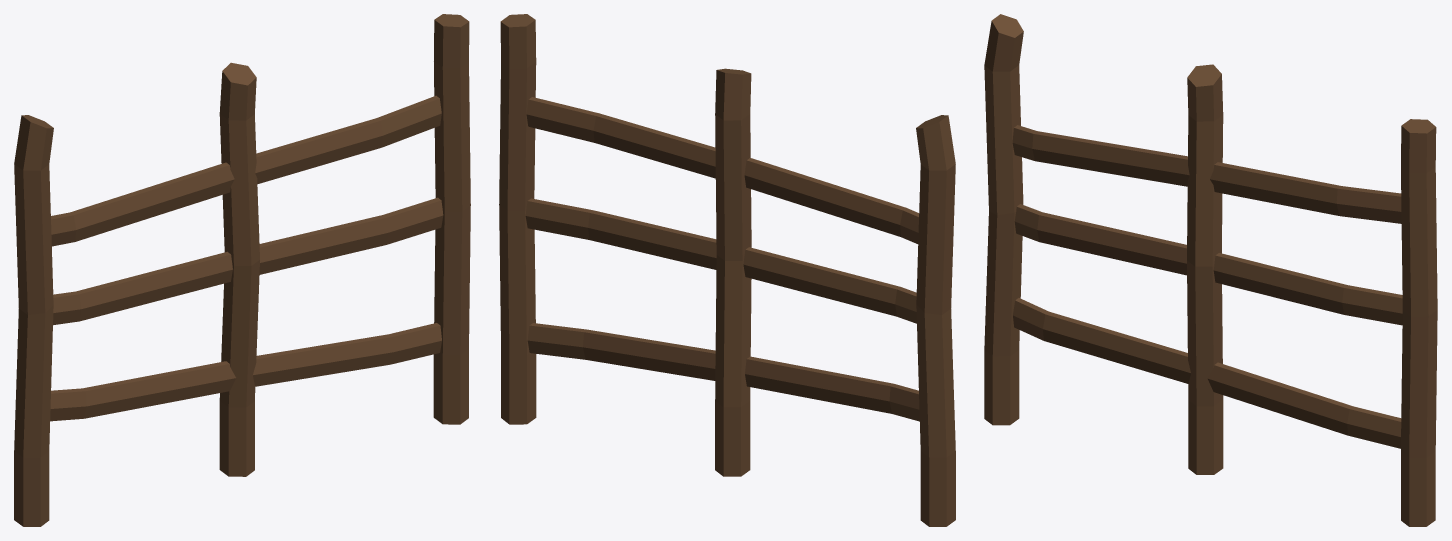
The model's file is fence_1.fbx.
3 views of the same model, side by side, from view 1: azimuth 30°, elevation 25°; view 2: azimuth 150°, elevation 25°; view 3: azimuth 330°, elevation 25° (orthographic).
Parts seen in each view (by area): view 1: Cylinder; view 2: Cylinder; view 3: Cylinder.
Part boxes in pixels (bbox=[...]): Cylinder: bbox=[14, 14, 470, 526]; Cylinder: bbox=[499, 14, 955, 526]; Cylinder: bbox=[984, 14, 1437, 526].
Bounding box in the file's own units: 213 × 183 × 17.73.
